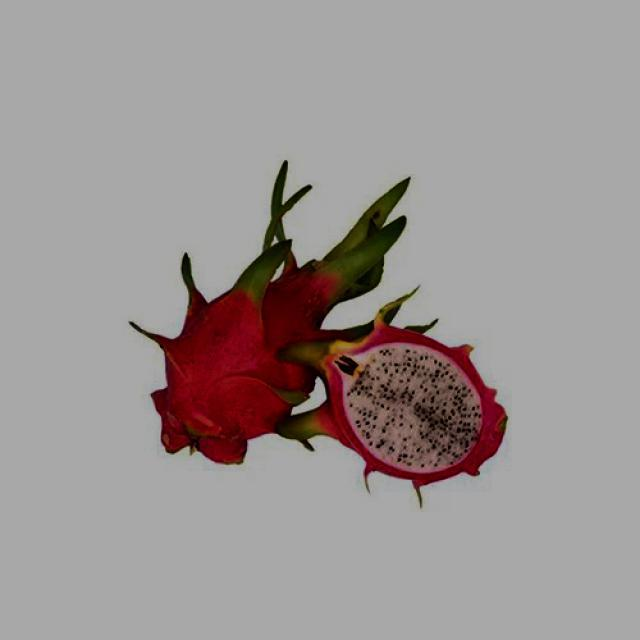trang: (143, 178, 334, 467), (311, 311, 513, 495)
